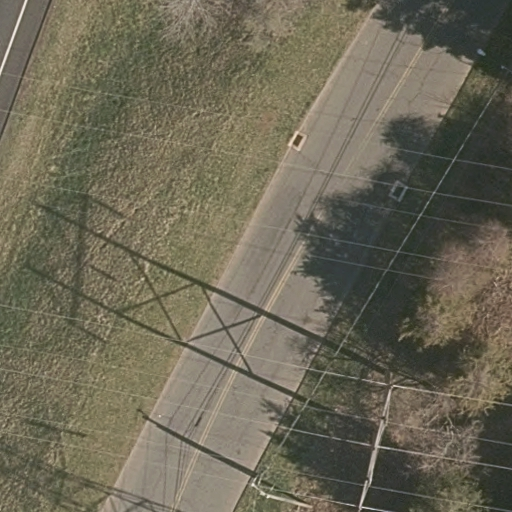DT: (344, 370, 409, 512), (241, 465, 320, 512)
